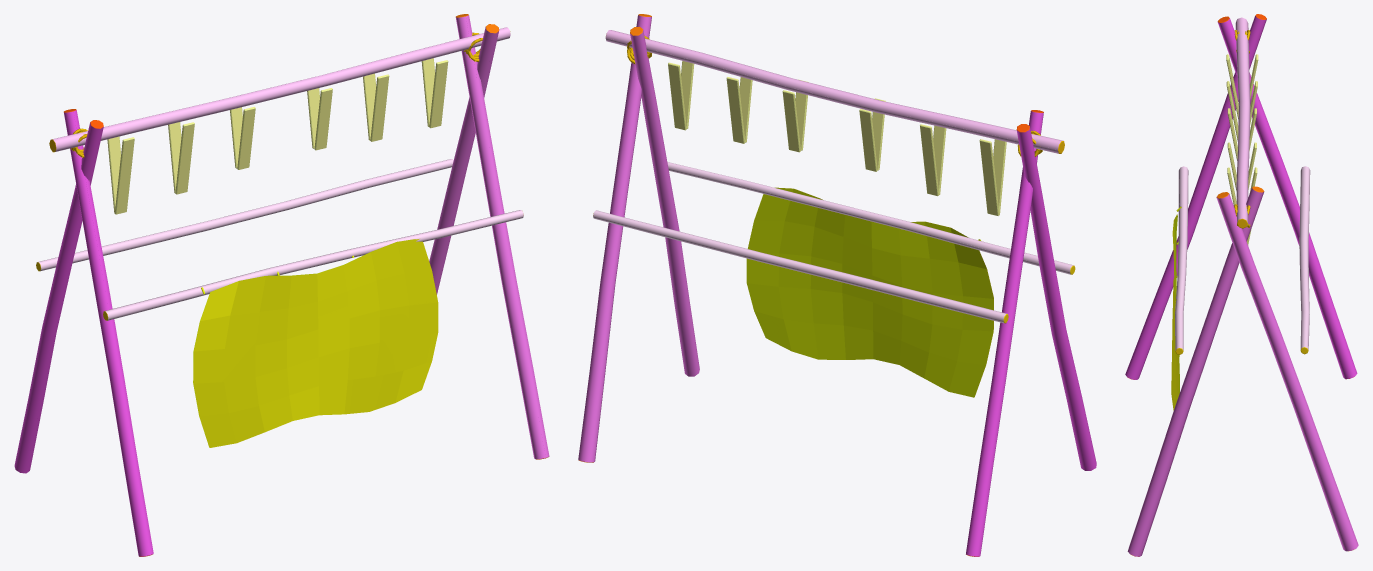
The model's file is camp_drying_rack.glb.
3 views of the same model, side by side, from view 1: azimuth 30°, elevation 25°; view 2: azimuth 150°, elevation 25°; view 3: azimuth 270°, elevation 25° (orthographic). The views are drawn at different scales.
Visible parts, largest first — view 1: Hide0, Model, Meat0, Meat1, Meat5, Meat4, Meat2, Meat3; view 2: Model, Hide0, Meat0, Meat1, Meat5, Meat4, Meat2, Meat3; view 3: Model, Hide0, Meat0, Meat1, Meat3, Meat2.
Part boxes in pixels (x1,y1,x2,y2): Hide0: (193,239,438,447); Model: (14,14,549,556); Meat0: (107,136,134,214); Meat1: (168,122,194,194); Meat5: (421,58,448,128); Meat4: (363,73,389,141); Meat2: (230,106,255,169); Meat3: (307,88,332,150); Model: (578,14,1096,556); Hide0: (746,187,993,397); Meat0: (979,139,1006,215); Meat1: (920,124,946,196); Meat5: (668,61,694,130); Meat4: (726,77,752,143); Meat2: (859,98,885,171); Meat3: (782,79,808,152); Model: (1125,14,1358,556); Hide0: (1171,206,1181,410); Meat0: (1226,54,1258,120); Meat1: (1226,81,1257,141); Meat3: (1227,142,1256,190); Meat2: (1227,108,1256,160).
Size of the model in its own units: 2.2 by 1.85 by 1.08.
